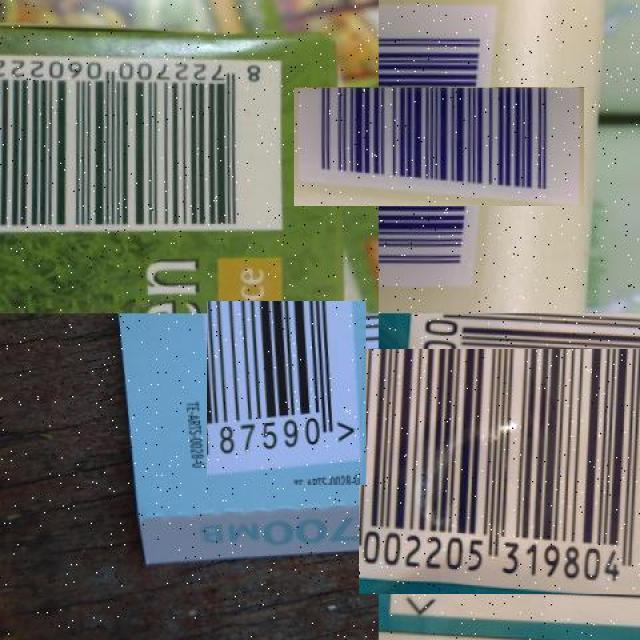Barcode: (377, 331, 640, 612), (0, 52, 291, 241), (336, 44, 541, 248), (200, 308, 372, 480)
